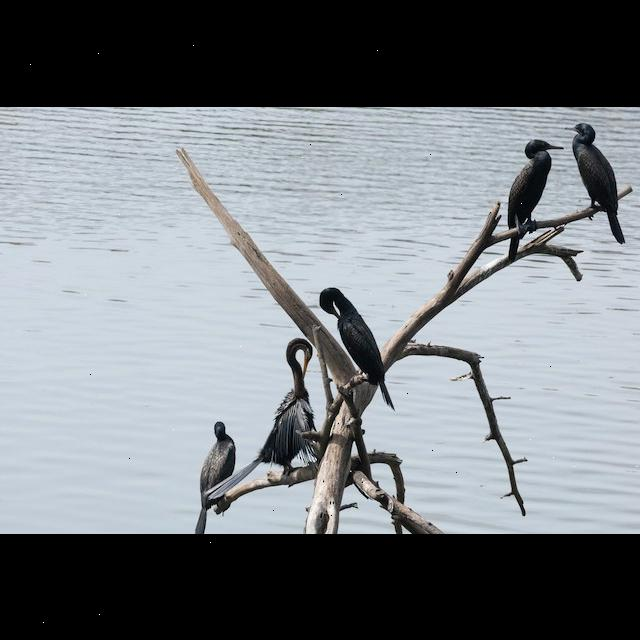cormorant: (499, 126, 563, 254), (564, 119, 624, 231), (318, 282, 390, 372), (198, 418, 236, 492)
heron: (250, 337, 316, 497)
